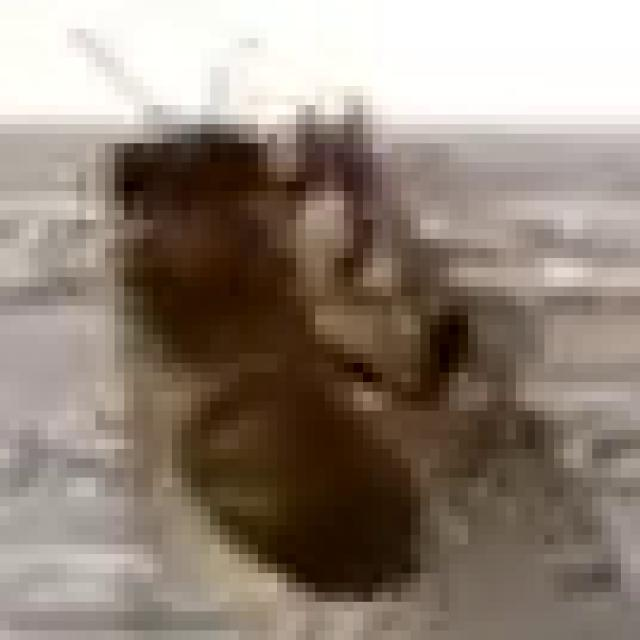honeybee: (89, 39, 490, 621)
